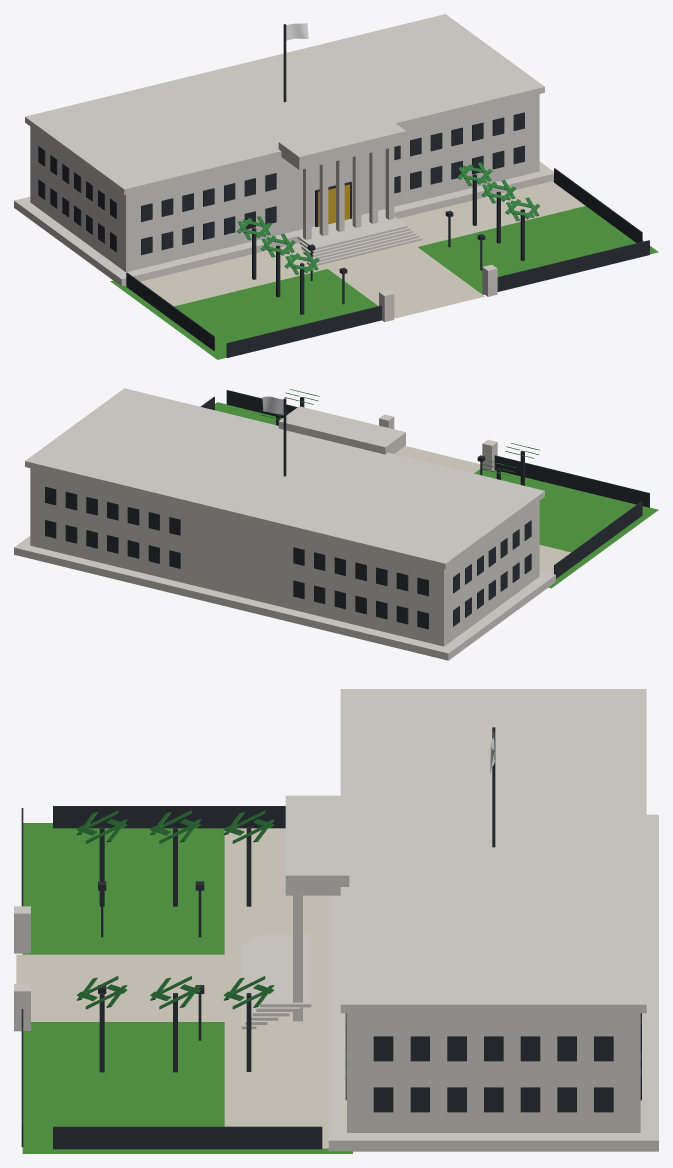
Rendered from plateau-presidence.glb.
3 renders of one model, top to bottom at view 1: azimuth 30°, elevation 25°; view 2: azimuth 150°, elevation 25°; view 3: azimuth 270°, elevation 25°, orthographic. The views are drawn at different scales.
Bounding box in the file's own units: 64 × 23.5 × 52.7.
